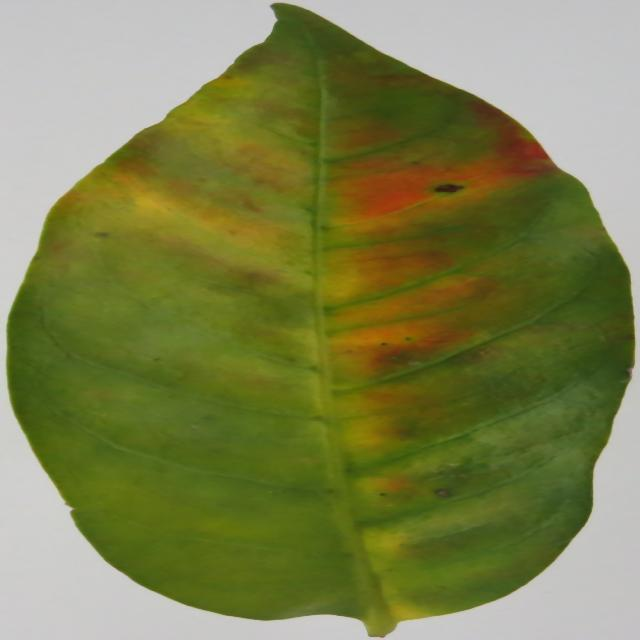DeficienciaNutricional-Fosforo: (8, 4, 631, 636)
